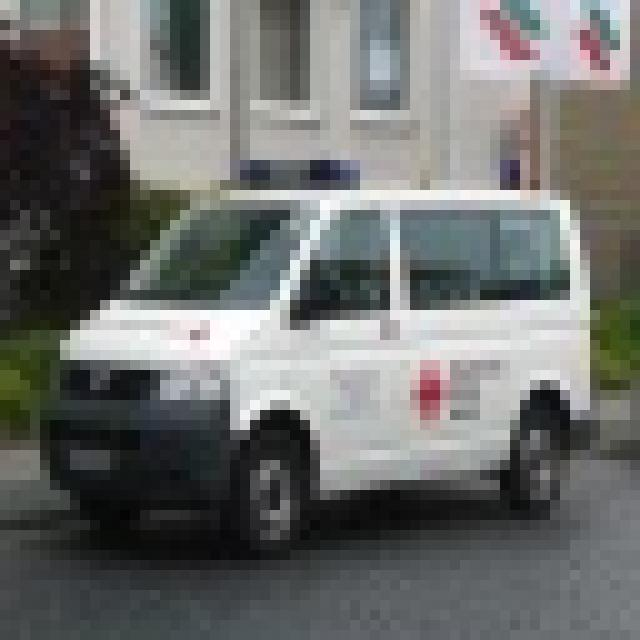Ambulance: (30, 150, 590, 550)
